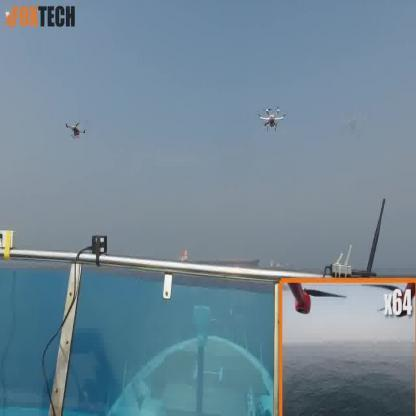drone: (257, 100, 286, 134), (64, 118, 86, 141)
